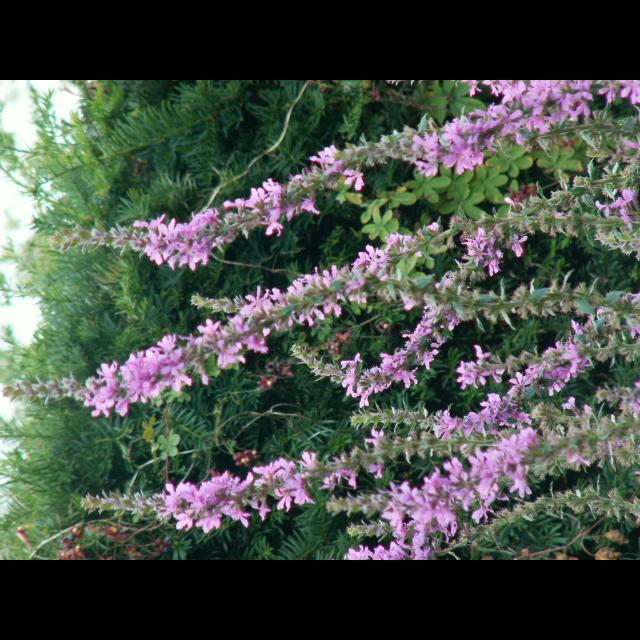Flower: (135, 80, 640, 270), (77, 228, 439, 417), (336, 228, 524, 414), (343, 421, 535, 559), (428, 332, 598, 446), (160, 454, 358, 534), (254, 500, 270, 518)
